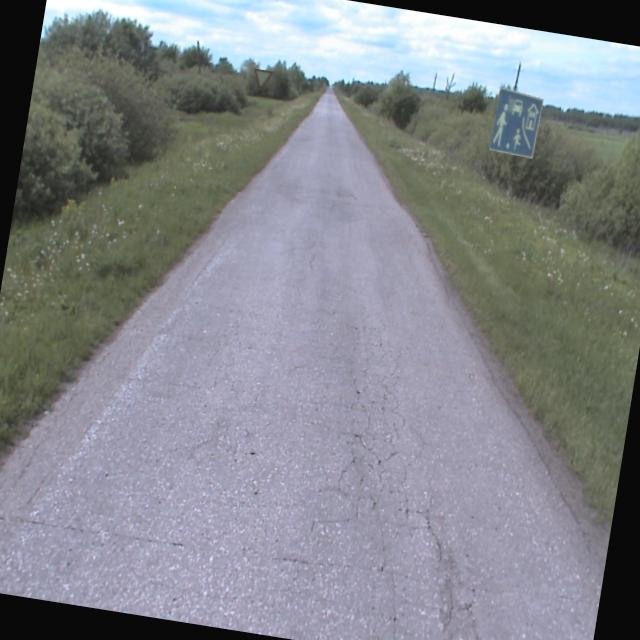road: (0, 93, 602, 640)
